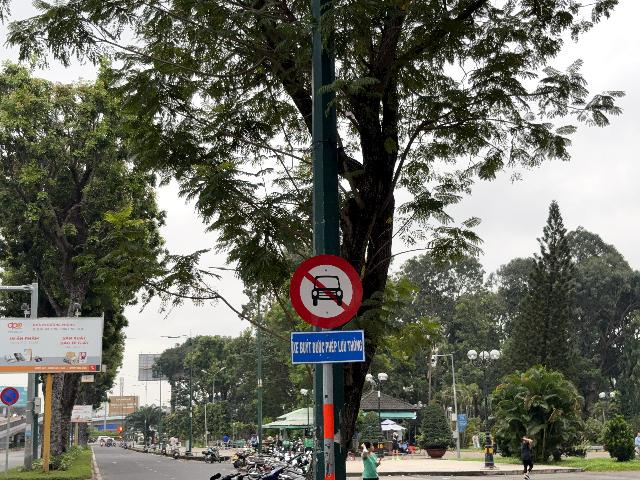cam-o-to: (290, 255, 362, 329)
